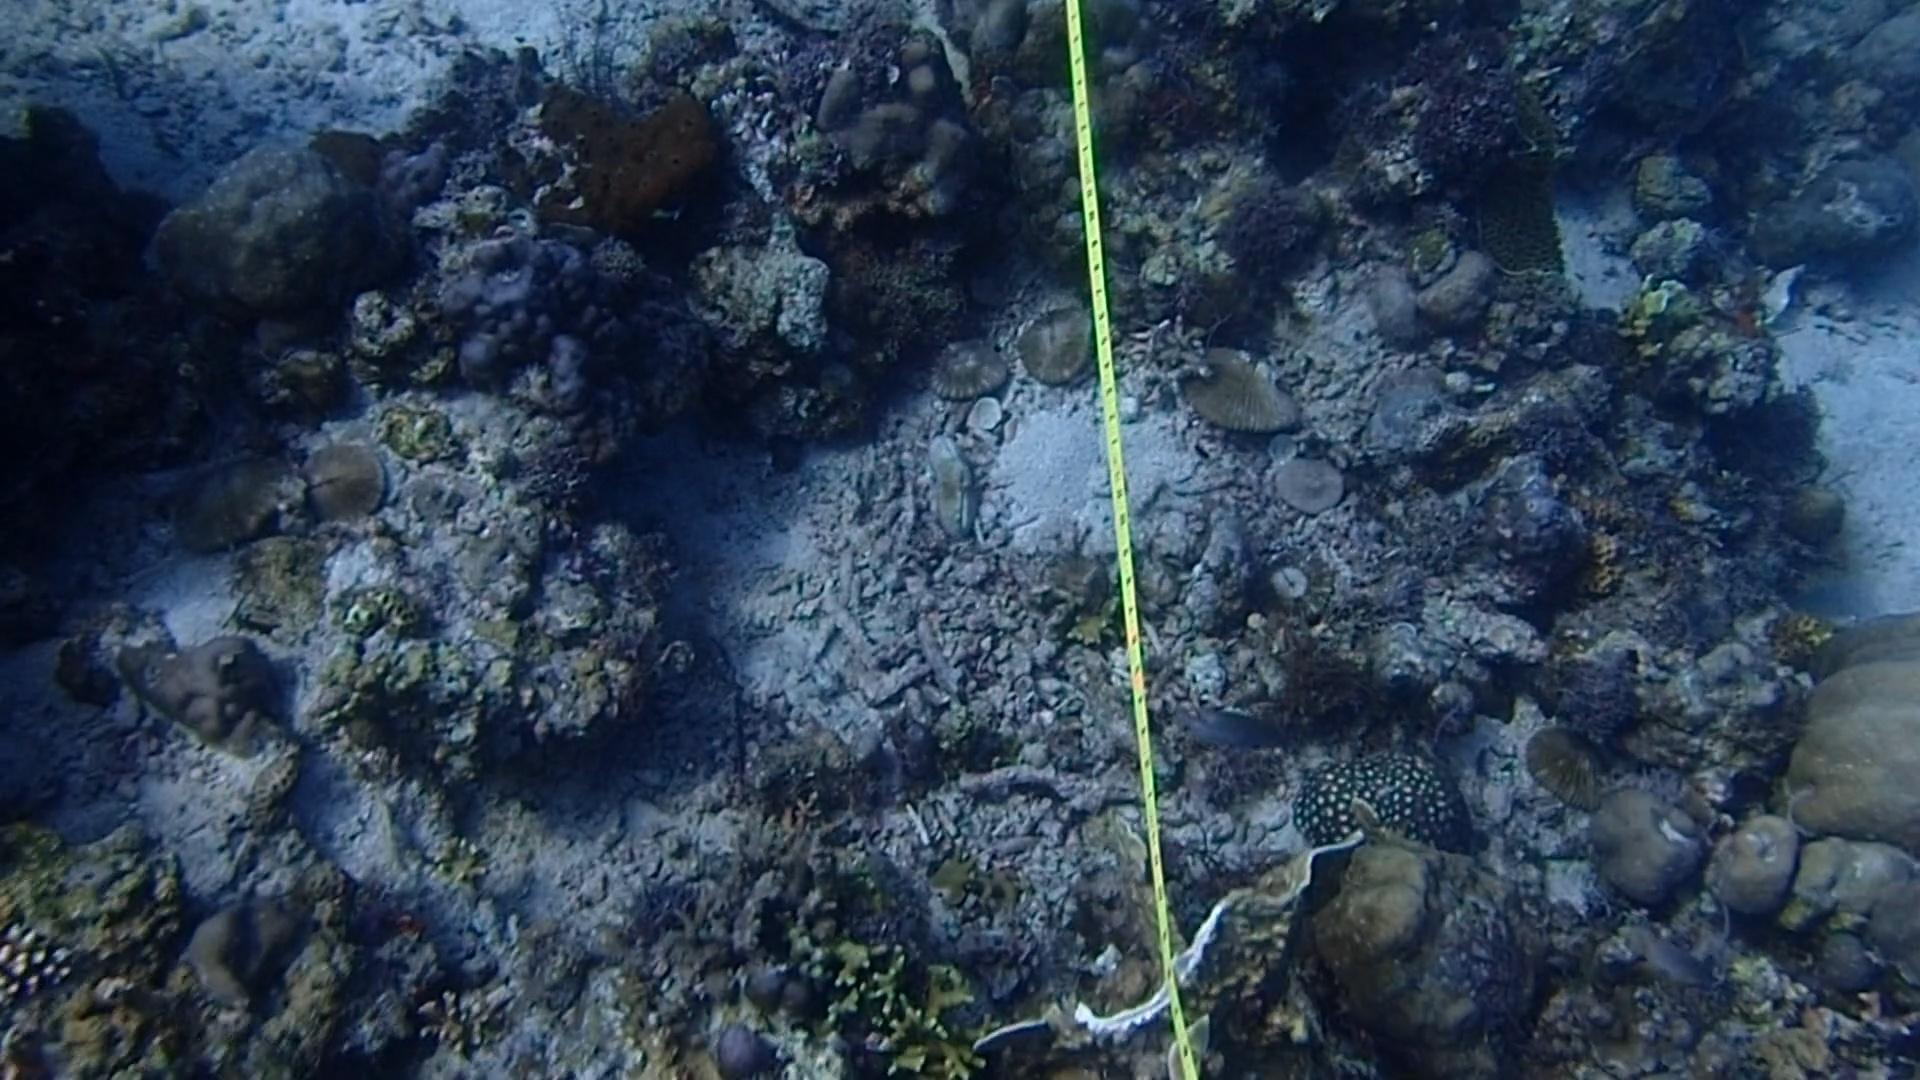Light Fish: (1178, 680, 1284, 765)
